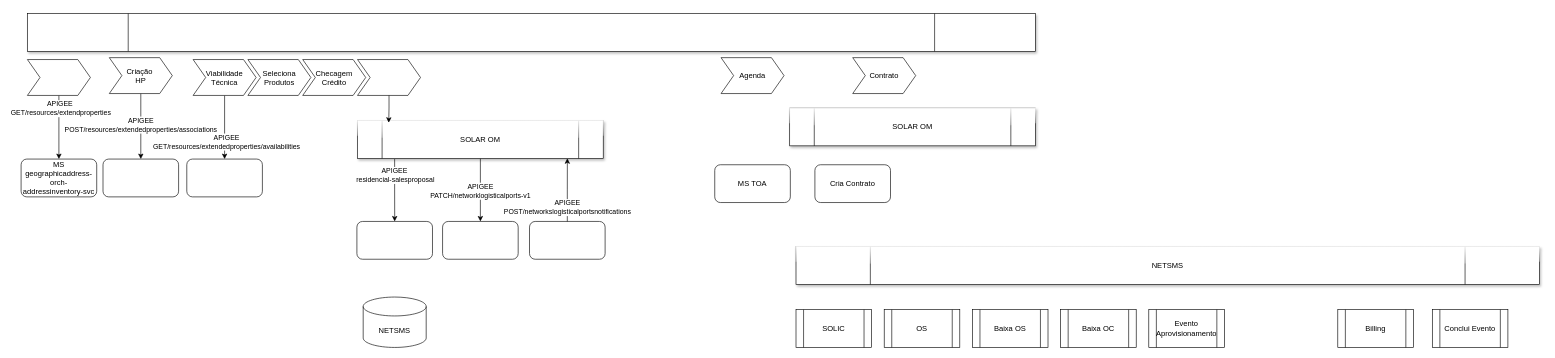
Image size: 1555x358. Some labels were removed from this diagram. Here are the shapes that lost their labels. From the top down, the centre of each, then its label:
At (x=531, y=33): "JORNADA DE VENDAS RESIDENCIAIS SOLAR".
At (x=58, y=77): "Consulta Endereço".
At (x=389, y=77): "Proposta".
At (x=140, y=177): "MS network-partner-service".
At (x=224, y=177): "MS service-orch-availability-svc".
At (x=394, y=240): "MS Proposals".
At (x=480, y=240): "Reserva Recurso Rede".
At (x=567, y=240): "Callback Reserva Recurso Rede".
